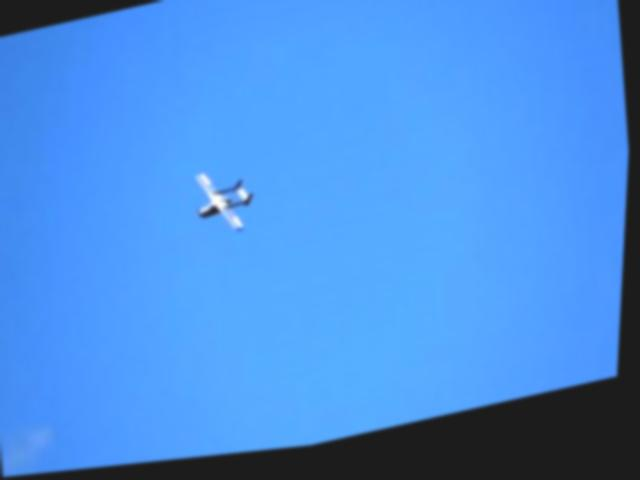uav: (187, 159, 264, 249)
